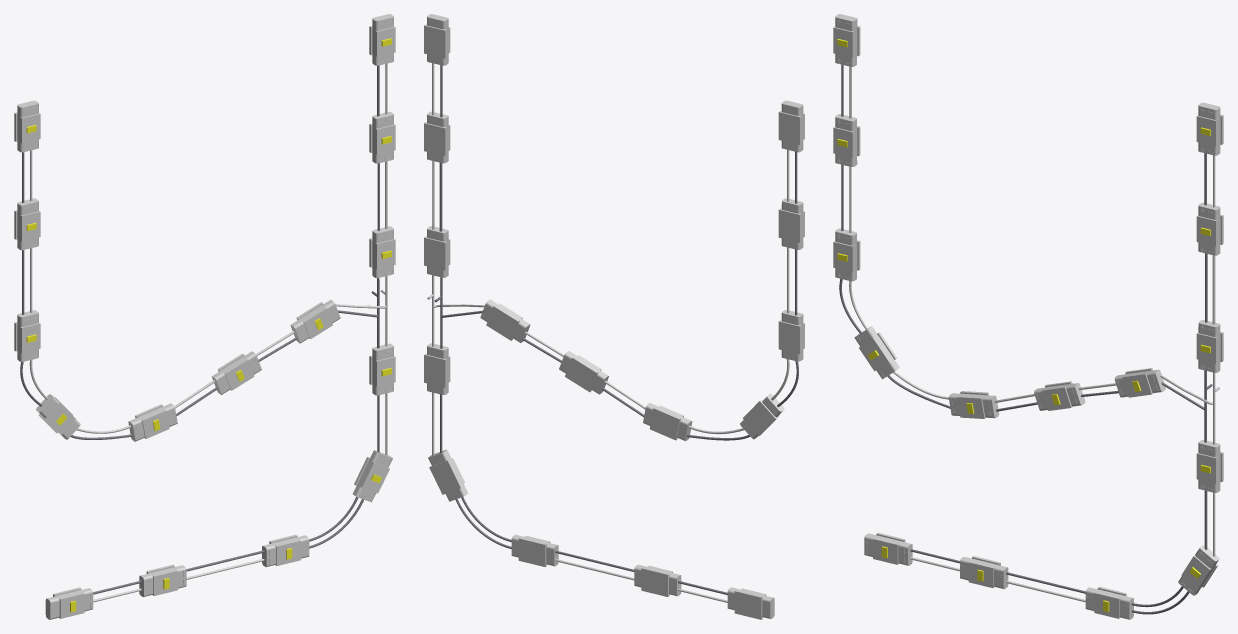
File: FIXED-LED.glb
The picture shows the model from 3 angles, left to right: view 1: azimuth 30°, elevation 25°; view 2: azimuth 150°, elevation 25°; view 3: azimuth 330°, elevation 25°; orthographic projection. The views are drawn at different scales.
Visible parts, largest first — view 1: FIXED-LED; view 2: FIXED-LED; view 3: FIXED-LED.
Boxes of the visible parts, left/top/right/bottom form: FIXED-LED: left=14, top=14, right=395, bottom=619; FIXED-LED: left=424, top=14, right=804, bottom=619; FIXED-LED: left=833, top=14, right=1223, bottom=619.
Bounding box in the file's own units: 35.25 × 46.62 × 1.67.
